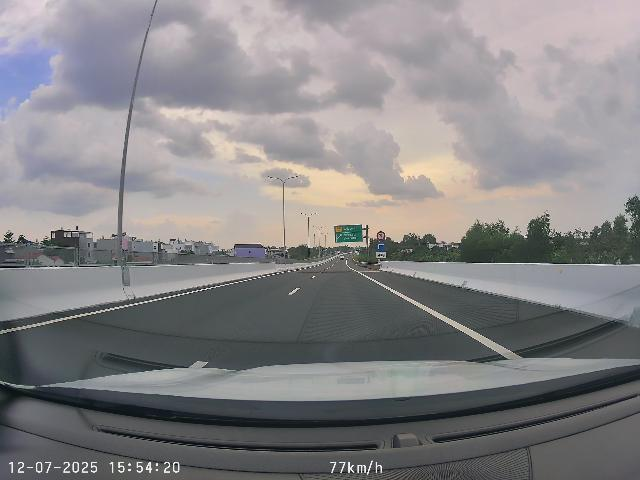136-cam-di-thang: (376, 231, 386, 241)
301d-cac-xe-chi-duoc-re-phai-2: (376, 242, 386, 251)
